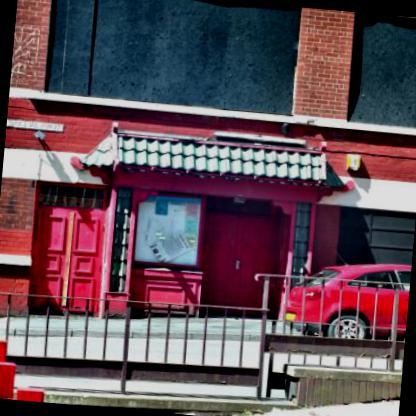car: (263, 248, 412, 352)
